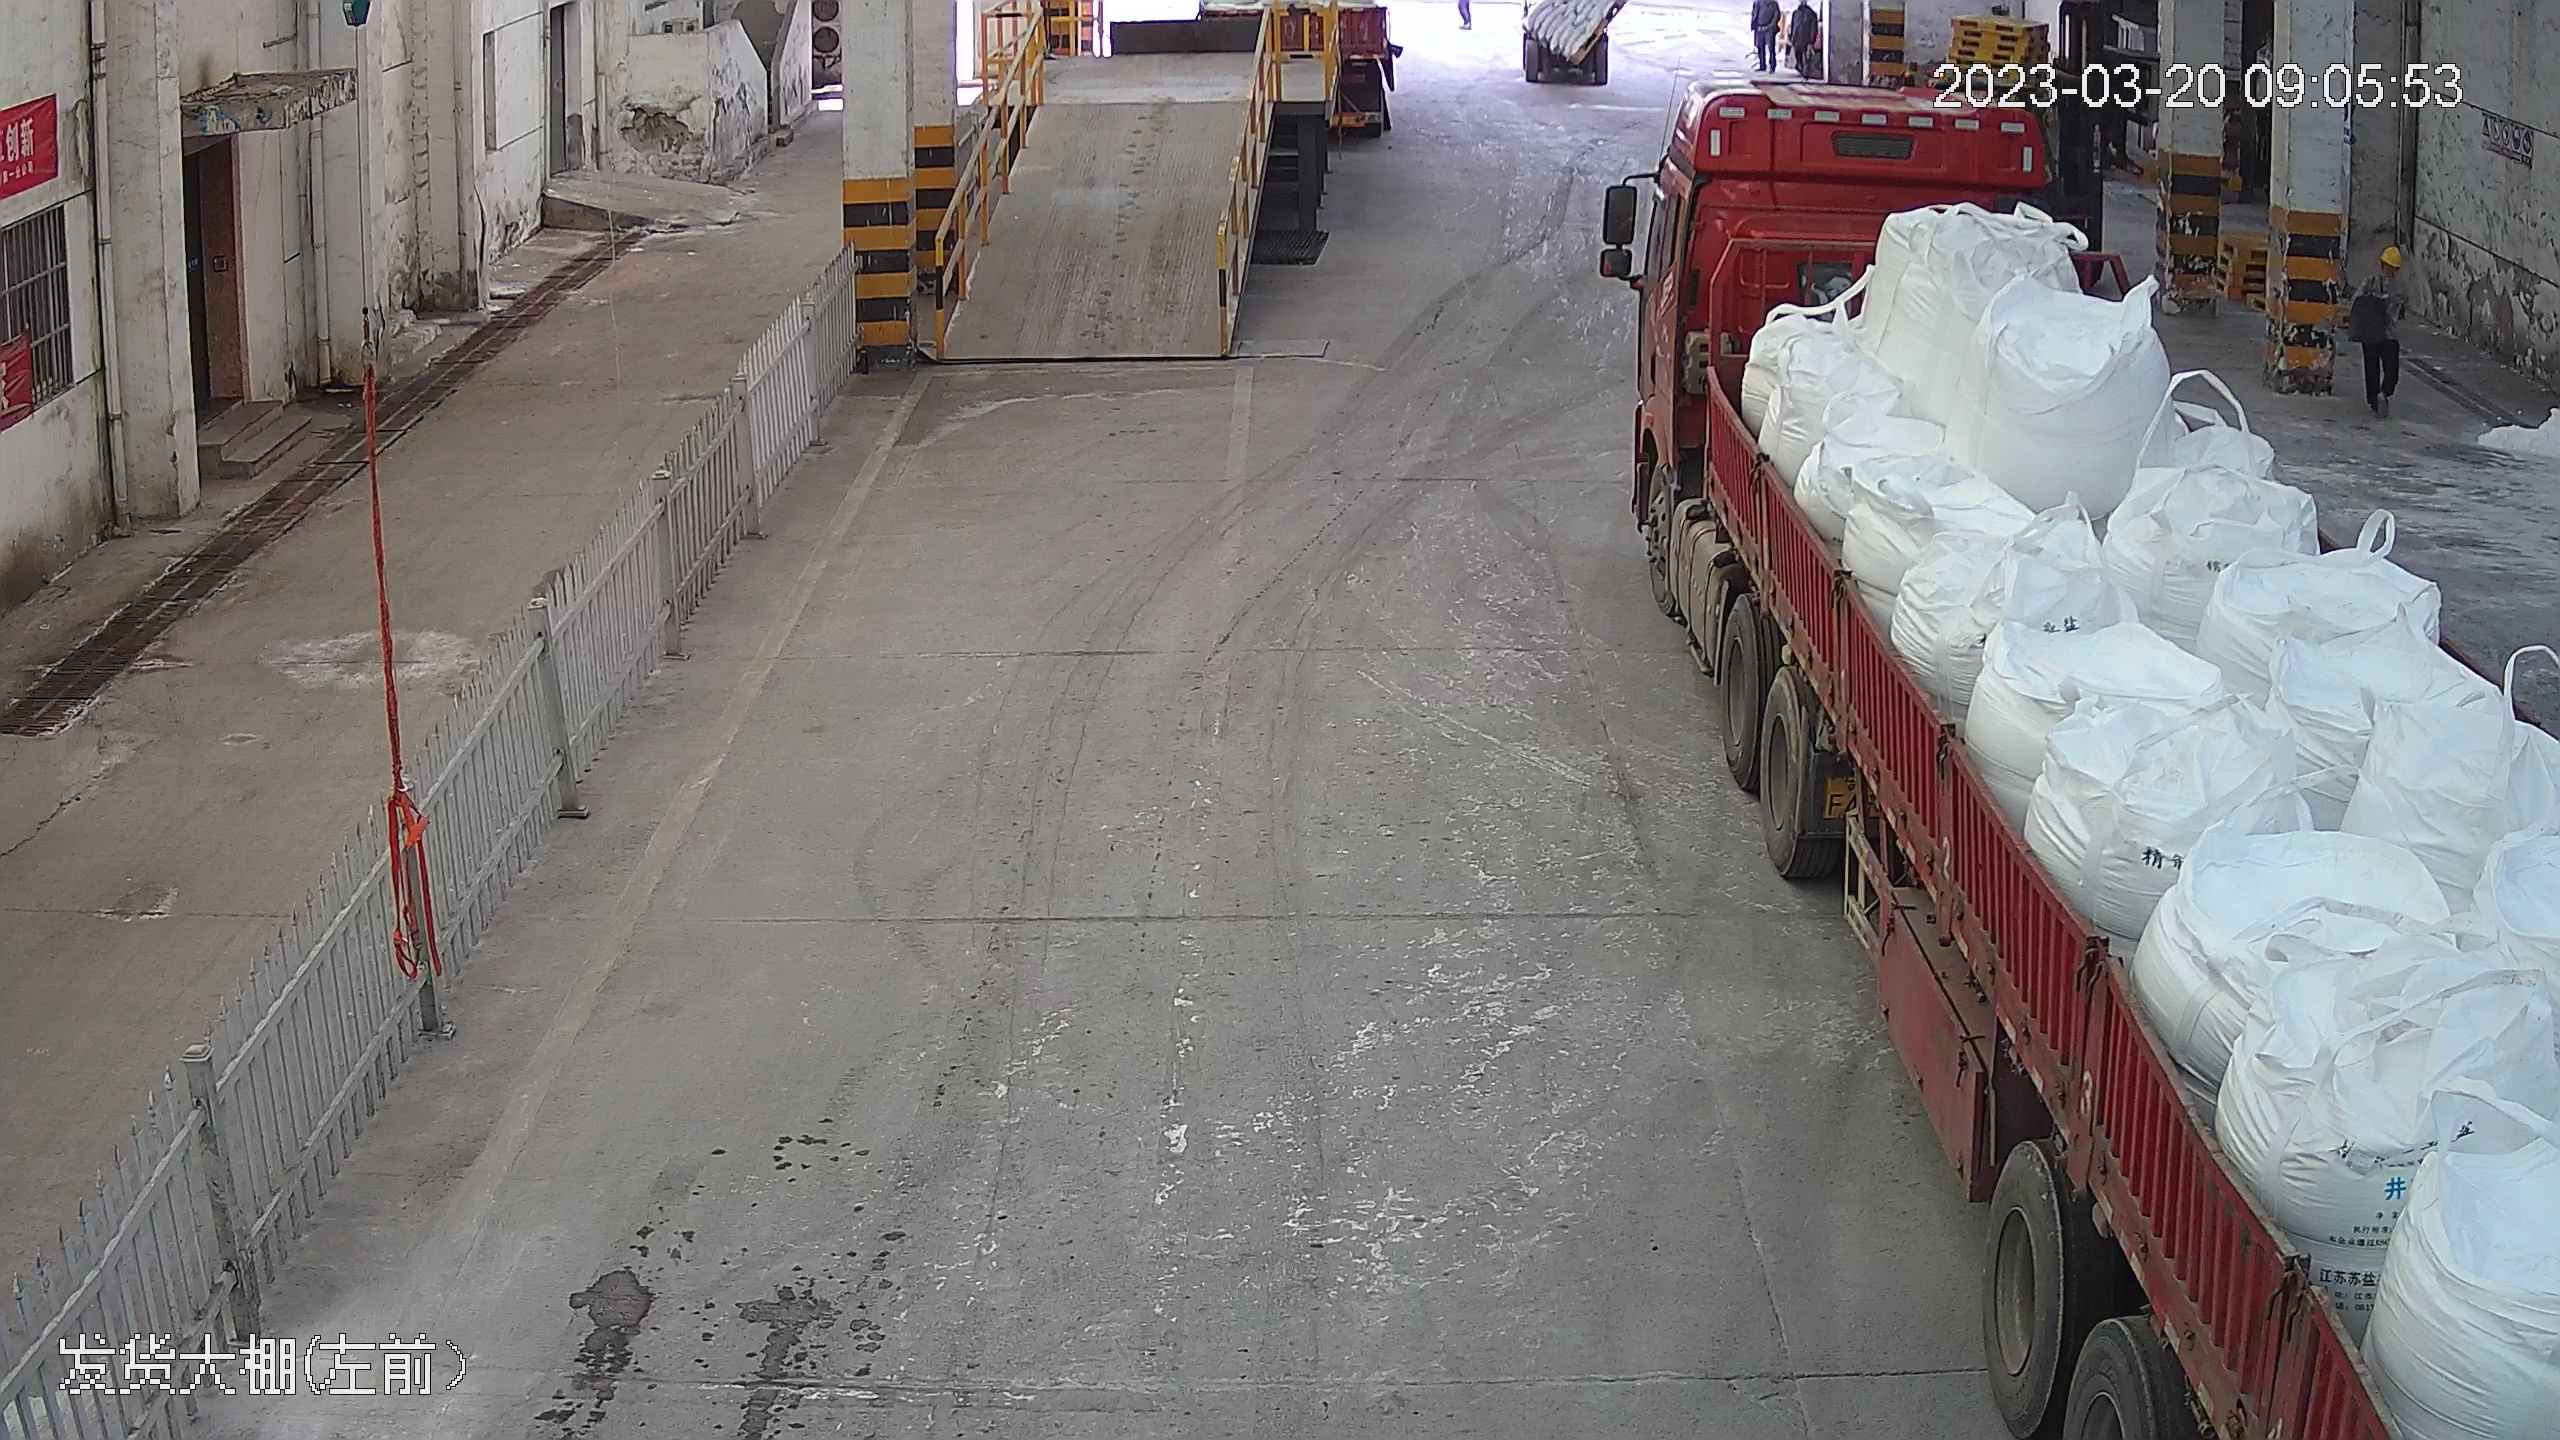head: (2357, 243, 2409, 299)
helmet: (2376, 242, 2405, 269)
people: (2349, 240, 2412, 414), (1745, 0, 1780, 66)
truck: (1597, 42, 2560, 1440)
